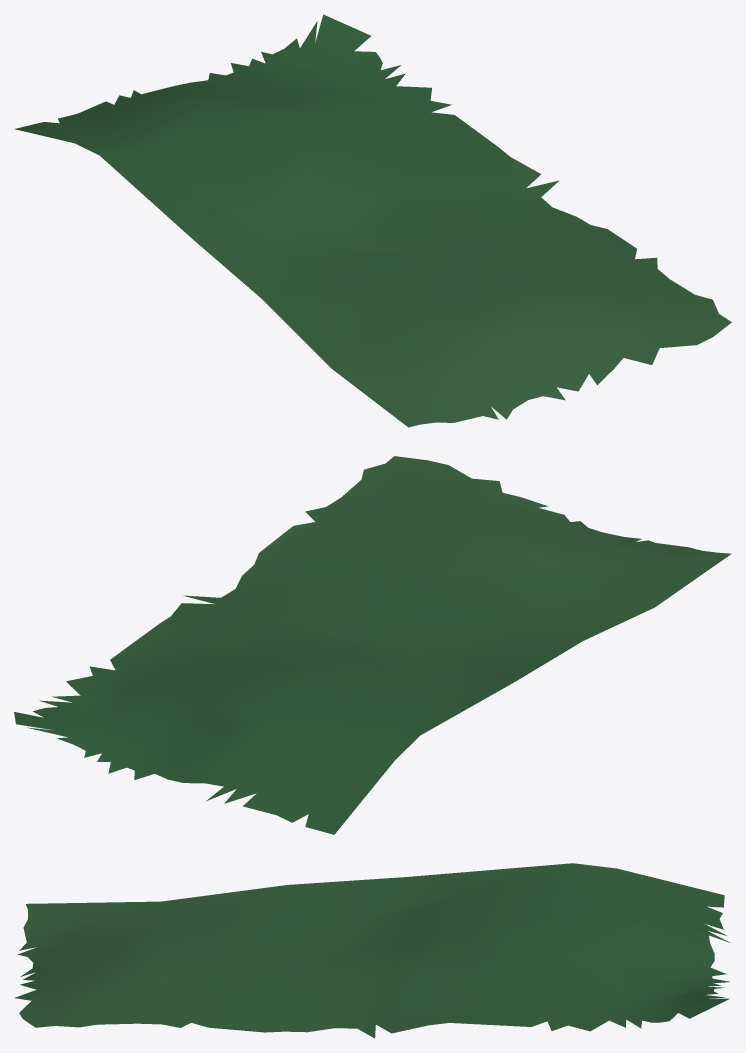
File: payo_land_x4_y7_lod2.glb
The picture shows the model from 3 angles, top to bottom: view 1: azimuth 30°, elevation 25°; view 2: azimuth 150°, elevation 25°; view 3: azimuth 270°, elevation 25°; orthographic projection. The views are drawn at different scales.
Parts seen in each view (by area): view 1: payo_land_x4_y7; view 2: payo_land_x4_y7; view 3: payo_land_x4_y7.
Boxes of the visible parts, box(x1,y1,x2,y2) form: payo_land_x4_y7: box(14, 14, 731, 427); payo_land_x4_y7: box(14, 456, 731, 834); payo_land_x4_y7: box(15, 863, 729, 1038).
Bounding box in the file's own units: 132 × 21.31 × 266.
